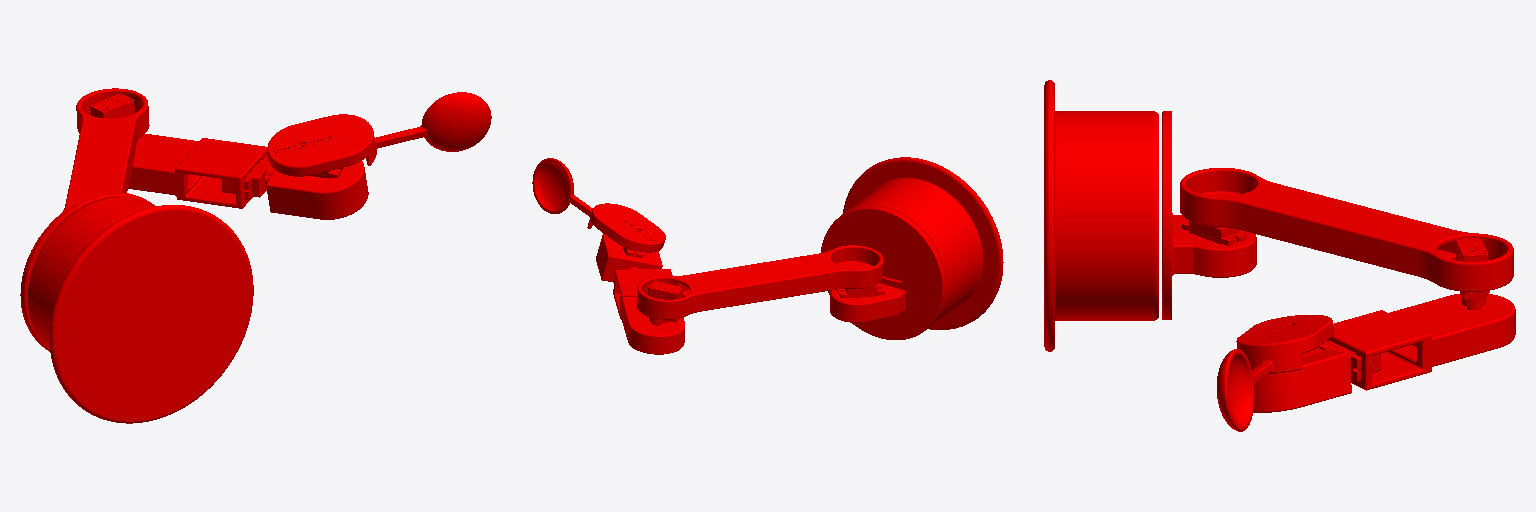
The robot description file, URDF, robot "simplified_dofbot":
<?xml version="1.0"?>

<robot name="simplified_dofbot">

  <!-- Materials -->
  <material name="red">
    <color rgba="1 0 0 1"/>
  </material>

  <material name="gray">
    <color rgba="0.6 0.6 0.6 1"/>
  </material>

  <material name="blue">
    <color rgba="0 0 1 1"/>
  </material>

  <!-- World -->
  <link name="world"/>

  <joint name="world_to_base" type="fixed">
    <parent link="world"/>
    <child link="base_link"/>
    <origin xyz="0 0 0" rpy="0 0 0"/>
  </joint>

  <!-- Base -->
  <link name="base_link">
    <visual>
      <origin xyz="0 0 0" rpy="0 0 0"/>
      <geometry>
        <mesh filename="package://simplified_dofbot_description/meshes/Base_Group.stl"
              scale="0.001 0.001 0.001"/>
      </geometry>
      <material name="red"/>
    </visual>
  </link>

  <!-- First arm -->
  <link name="first_arm_link">
    <visual>
      <!-- Negative of Joint 1 absolute pivot -->
      <origin xyz="-0.046779 -0.122519 -0.115472" rpy="0 0 0"/>
      <geometry>
        <mesh filename="package://simplified_dofbot_description/meshes/First_Arm.stl"
              scale="0.001 0.001 0.001"/>
      </geometry>
      <material name="red"/>
    </visual>
  </link>

  <!-- Second arm -->
  <link name="second_arm_link">
    <visual>
      <!-- Negative of Joint 2 absolute pivot -->
      <origin xyz="-0.137228 -0.242982 -0.103432" rpy="0 0 0"/>
      <geometry>
        <mesh filename="package://simplified_dofbot_description/meshes/Secound_Arm.stl"
              scale="0.001 0.001 0.001"/>
      </geometry>
      <material name="red"/>
    </visual>
  </link>

  <!-- Wrist -->
  <link name="wrist_link">
    <visual>
      <!-- Negative of Joint 3 absolute pivot -->
      <origin xyz="-0.198824 -0.171340 -0.100019" rpy="0 0 0"/>
      <geometry>
        <mesh filename="package://simplified_dofbot_description/meshes/Wrist.stl"
              scale="0.001 0.001 0.001"/>
      </geometry>
      <material name="red"/>
    </visual>
  </link>

  <!-- Gripper -->
  <link name="gripper_link">
    <visual>
      <!-- Negative of Joint 4 absolute pivot -->
      <origin xyz="-0.202800 -0.155741 -0.124683" rpy="0 0 0"/>
      <geometry>
        <mesh filename="package://simplified_dofbot_description/meshes/Gripper.stl"
              scale="0.001 0.001 0.001"/>
      </geometry>
      <material name="red"/>
    </visual>
  </link>

  <!-- Joint 1 -->
  <joint name="joint1" type="revolute">
    <parent link="base_link"/>
    <child link="first_arm_link"/>
    <origin xyz="0.046779 0.122519 0.115472" rpy="0 0 0"/>
    <axis xyz="0 0 1"/>
    <limit lower="-1.57" upper="1.57" effort="10" velocity="1"/>
  </joint>

  <!-- Joint 2 -->
  <joint name="joint2" type="revolute">
    <parent link="first_arm_link"/>
    <child link="second_arm_link"/>
    <origin xyz="0.090449 0.120463 -0.012040" rpy="0 0 0"/>
    <axis xyz="0 0 1"/>
    <limit lower="-1.57" upper="1.57" effort="10" velocity="1"/>
  </joint>

  <!-- Joint 3-->
  <joint name="joint3" type="revolute">
    <parent link="second_arm_link"/>
    <child link="wrist_link"/>
    <origin xyz="0.061596 -0.071642 -0.003413" rpy="0 0 0"/>
    <axis xyz="0 0 1"/>
    <limit lower="-1.57" upper="1.57" effort="10" velocity="1"/>
  </joint>

  <!-- Joint 4 -->
  <joint name="joint4" type="revolute">
    <parent link="wrist_link"/>
    <child link="gripper_link"/>
    <origin xyz="0.003976 -0.015599 0.024664" rpy="0 0 0"/>
    <axis xyz="0 0 1"/>
    <limit lower="-1.57" upper="1.57" effort="10" velocity="1"/>
  </joint>

</robot>

--- Facts derived from the render (not from the file) ---
3 views of the same robot in one strip: view 1: azimuth 30°, elevation 25°; view 2: azimuth 150°, elevation 25°; view 3: azimuth 270°, elevation 25° (orthographic).
Model simplified_dofbot with 6 links and 5 joints (4 revolute, 1 fixed), rooted at world, posed every joint at zero.
Links seen in each view (by area): view 1: base_link, gripper_link, second_arm_link, first_arm_link, wrist_link; view 2: base_link, first_arm_link, gripper_link, second_arm_link, wrist_link; view 3: base_link, first_arm_link, second_arm_link, gripper_link, wrist_link.
Boxes of the visible links, left/top/right/bottom form: base_link: left=20, top=192, right=253, bottom=423; gripper_link: left=267, top=92, right=491, bottom=176; second_arm_link: left=128, top=134, right=274, bottom=208; first_arm_link: left=63, top=88, right=149, bottom=211; wrist_link: left=266, top=146, right=368, bottom=219; base_link: left=821, top=157, right=1003, bottom=339; first_arm_link: left=637, top=245, right=883, bottom=323; gripper_link: left=532, top=158, right=665, bottom=252; second_arm_link: left=613, top=267, right=684, bottom=354; wrist_link: left=596, top=233, right=662, bottom=282; base_link: left=1044, top=80, right=1256, bottom=351; first_arm_link: left=1180, top=168, right=1513, bottom=306; second_arm_link: left=1319, top=294, right=1515, bottom=390; gripper_link: left=1217, top=315, right=1333, bottom=431; wrist_link: left=1253, top=347, right=1351, bottom=412.
Size in the robot's own frame: 0.3316 by 0.2253 by 0.13 metres.
Meshes: 5 distinct files referenced, 5 mesh visuals loaded (5 binary STL).
